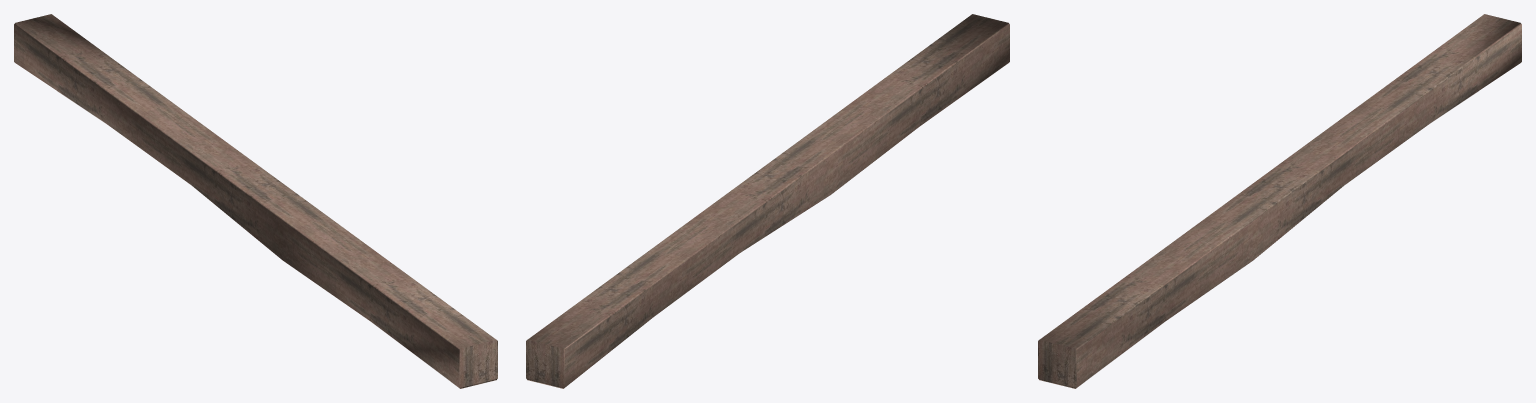
The model's file is SM_beam_01.glb.
3 renders of one model, left to right at view 1: azimuth 30°, elevation 25°; view 2: azimuth 150°, elevation 25°; view 3: azimuth 330°, elevation 25°, orthographic.
Visible parts, largest first — view 1: SM_beam_01; view 2: SM_beam_01; view 3: SM_beam_01.
Boxes of the visible parts, x1,y1,x2,y2 form: SM_beam_01: (14,14,497,388); SM_beam_01: (526,14,1009,388); SM_beam_01: (1038,14,1521,388).
Bounding box in the file's own units: 1.25 × 1.3 × 25.
Materials: 1 (1 with a texture image).
